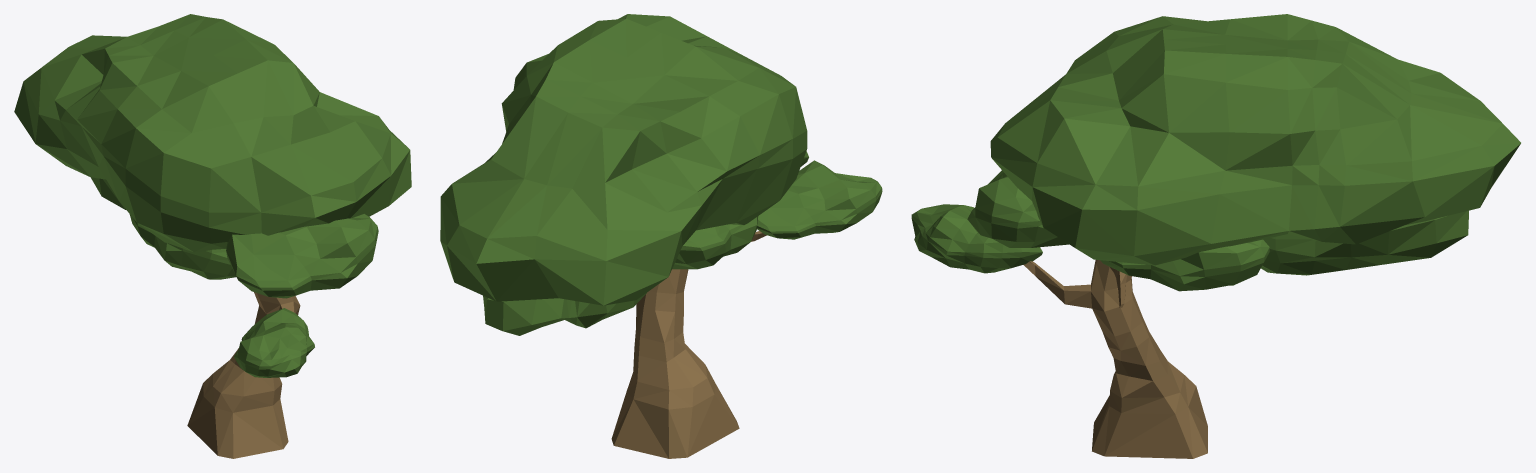
File: Main_Tree3.fbx
3 renders of one model, left to right at view 1: azimuth 30°, elevation 25°; view 2: azimuth 150°, elevation 25°; view 3: azimuth 270°, elevation 25°, orthographic. The views are drawn at different scales.
Parts seen in each view (by area): view 1: Main_Tree2; view 2: Main_Tree2; view 3: Main_Tree2.
Boxes of the visible parts, x1,y1,x2,y2 form: Main_Tree2: (14,14,411,458); Main_Tree2: (440,14,882,458); Main_Tree2: (911,14,1520,458).
Size of the model in its own units: 5.16 by 7.02 by 9.46.
